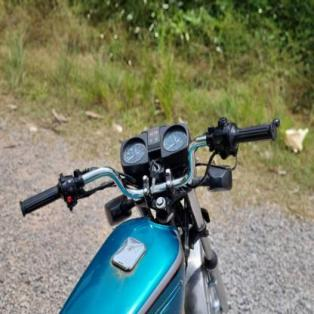Motocicleta: (17, 110, 282, 313)
